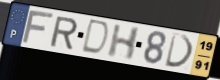8: (142, 30, 168, 66)
D: (79, 18, 111, 57), (163, 32, 195, 70)
F: (20, 10, 56, 45)
H: (105, 23, 142, 62)
R: (48, 15, 79, 50)
